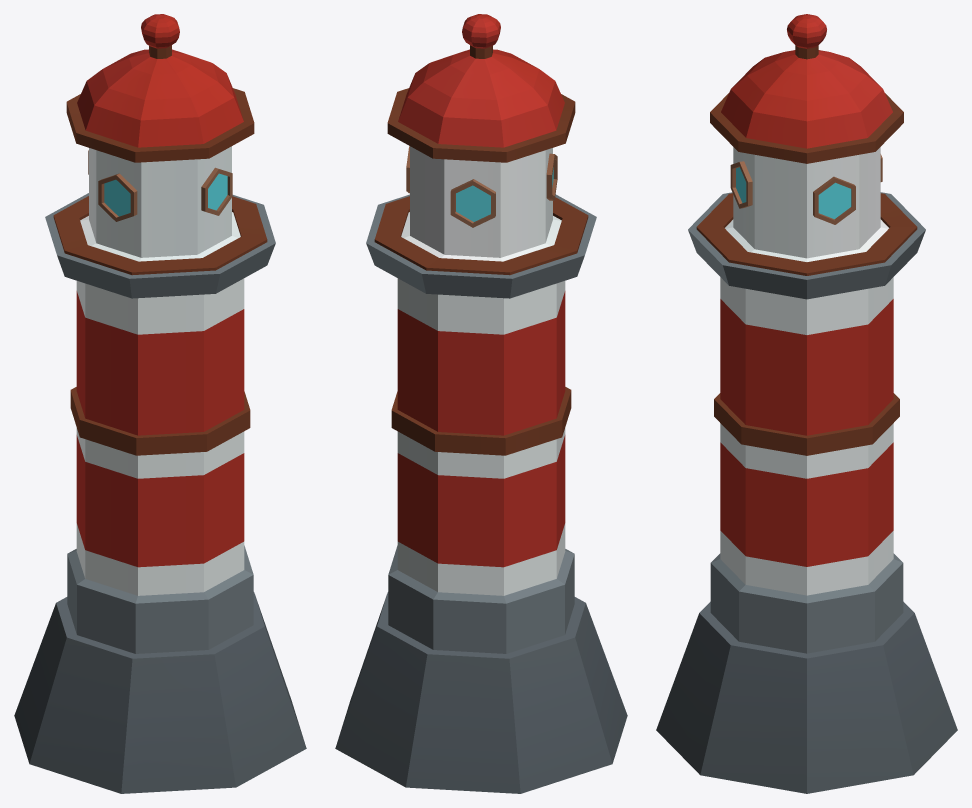
The model's file is lighthouse.fbx.
The picture shows the model from 3 angles, left to right: view 1: azimuth 30°, elevation 25°; view 2: azimuth 150°, elevation 25°; view 3: azimuth 270°, elevation 25°; orthographic projection.
Visible parts, largest first — view 1: Cylinder, Circle; view 2: Cylinder, Circle; view 3: Cylinder, Circle.
Boxes of the visible parts, x1,y1,x2,y2 form: Cylinder: (14,14,306,793); Circle: (88,150,232,221); Cylinder: (335,14,627,793); Circle: (406,146,557,227); Cylinder: (656,14,957,793); Circle: (730,154,882,224).
Bounding box in the file's own units: 280 × 730 × 280.
Materials: 1 (1 with a texture image).
